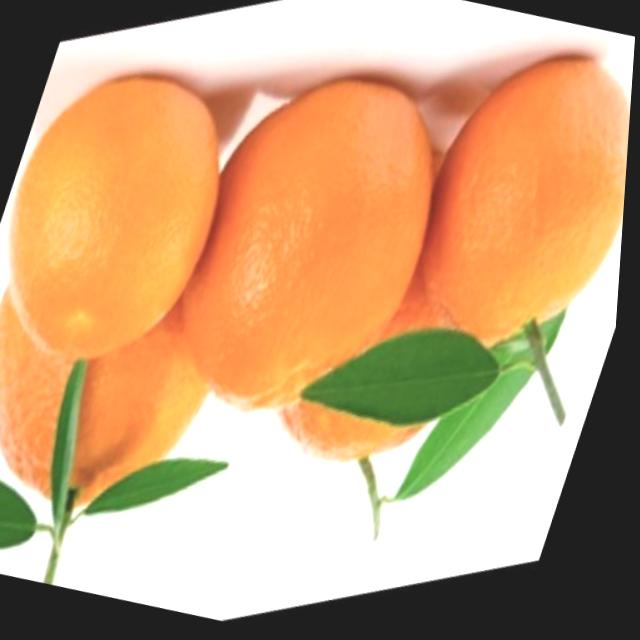Orange: (150, 49, 477, 453), (0, 47, 260, 391), (389, 34, 637, 385), (0, 255, 243, 541), (271, 249, 483, 494)
